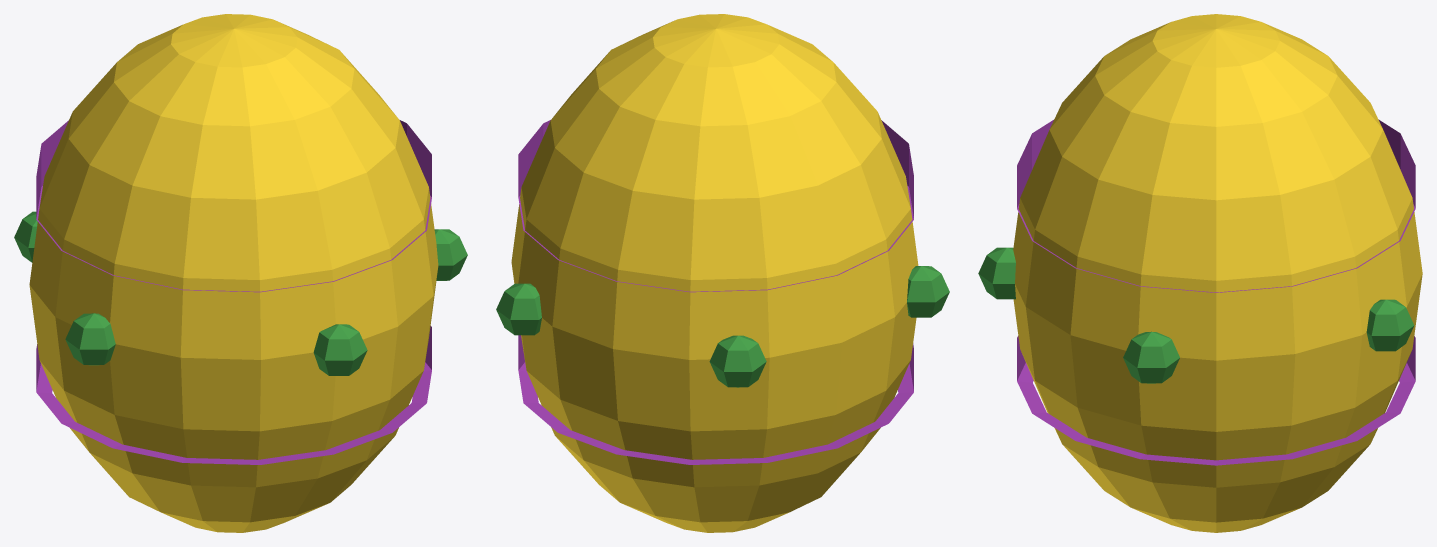
File: paskagg.glb
3 renders of one model, left to right at view 1: azimuth 30°, elevation 25°; view 2: azimuth 150°, elevation 25°; view 3: azimuth 270°, elevation 25°, orthographic.
Visible parts, largest first — view 1: paskagg; view 2: paskagg; view 3: paskagg.
Boxes of the visible parts, left/top/right/bottom form: paskagg: left=14, top=14, right=467, bottom=532; paskagg: left=496, top=14, right=949, bottom=532; paskagg: left=978, top=14, right=1422, bottom=532.
Bounding box in the file's own units: 0.2823 × 0.34 × 0.28.
